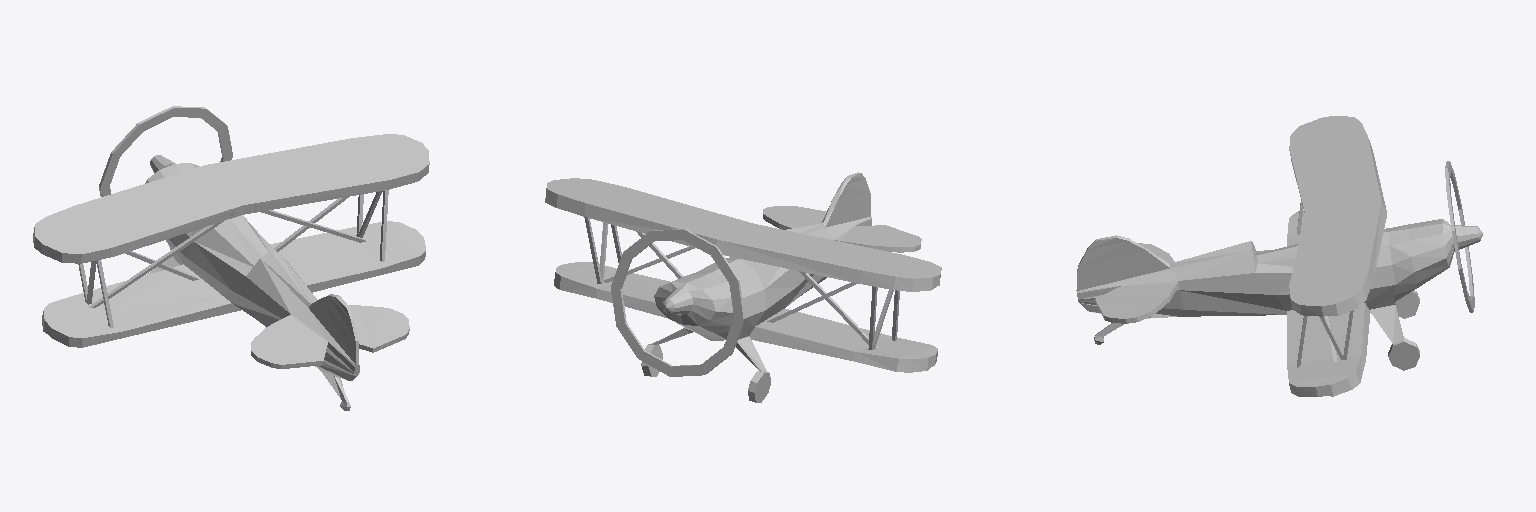
The model's file is PTS1.obj.
The picture shows the model from 3 angles: view 1: azimuth 30°, elevation 25°; view 2: azimuth 150°, elevation 25°; view 3: azimuth 270°, elevation 25°; orthographic projection.
Visible parts, largest first — view 1: PTS1_Circle.001; view 2: PTS1_Circle.001; view 3: PTS1_Circle.001.
Part boxes in pixels (left/top/right/bottom): PTS1_Circle.001: left=33, top=106, right=429, bottom=410; PTS1_Circle.001: left=545, top=172, right=941, bottom=402; PTS1_Circle.001: left=1076, top=116, right=1482, bottom=396.
Size of the model in its own units: 5.2 by 2.27 by 4.74.